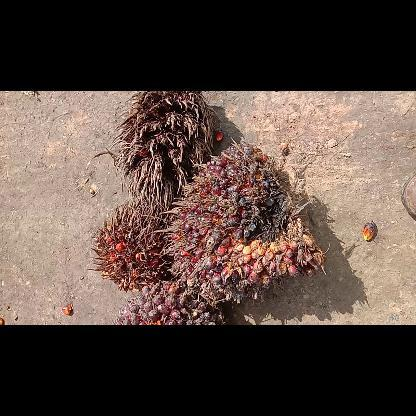Janjang kosong: (100, 92, 224, 216)
Kurang masak: (112, 282, 230, 324)
TBS masak: (155, 136, 328, 306)
Terlalu masak: (86, 201, 176, 295)
